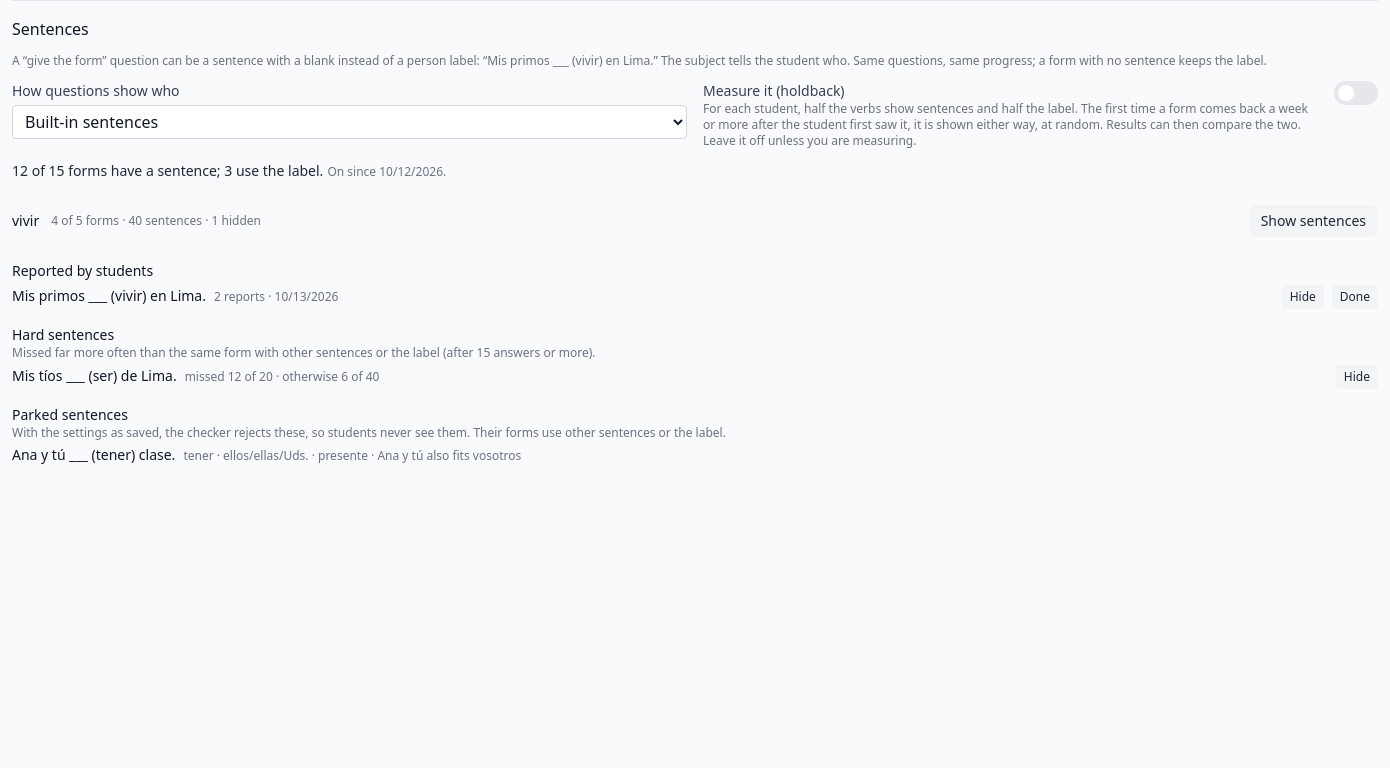
Test case: SentencesPanel (v1.25.0) › names each row's buttons by their sentence, marks one the mode does not show, and closes from the end too
Step 1. Click the button with aria-label "Show sentences: vivir" → (1313, 221), box [1249,205,1378,237]
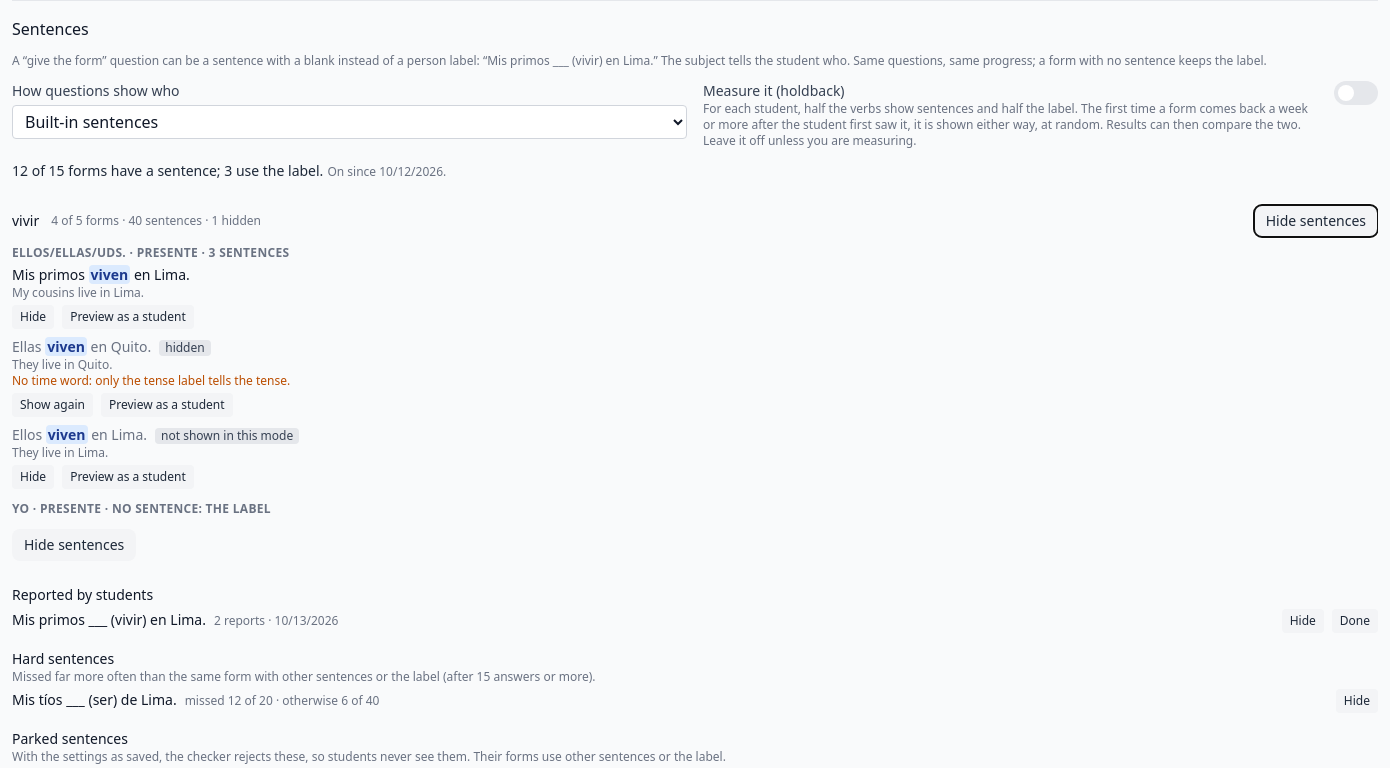
Check: the list item "My cousins live in Lima." does not show "not shown in this mode", box [12,265,194,329]
Check: the list item "They live in Lima." shows "not shown in this mode", box [161,427,293,444]
Check: the number of buttons named "Hide sentences: vivir" is 2
Step 2. Click the button with aria-label "Hide sentences: vivir" → (74, 545), box [12,529,136,561]
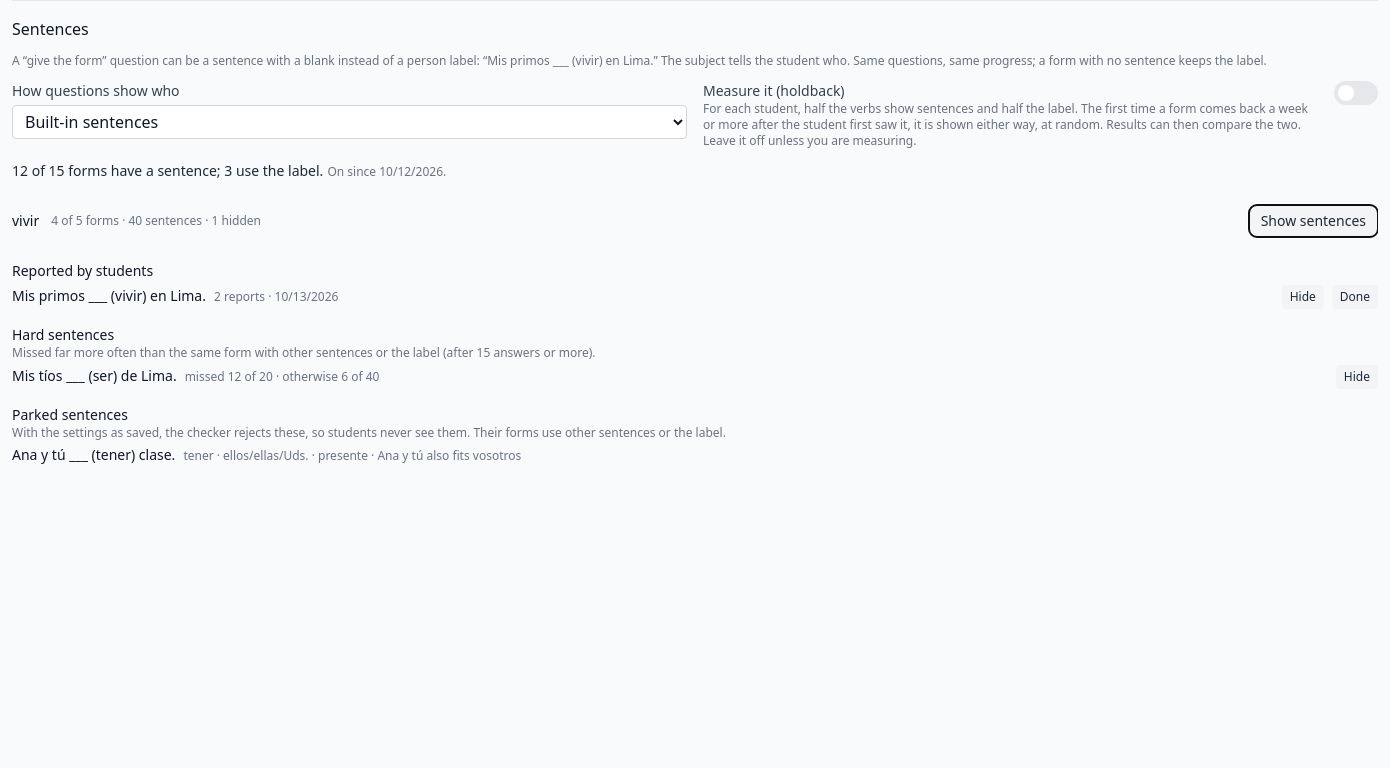
Check: the text "My cousins live in Lima." is gone
